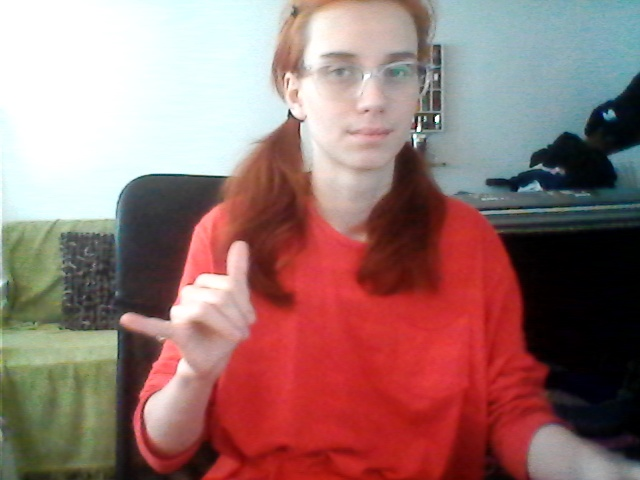ano: (111, 238, 268, 378)
